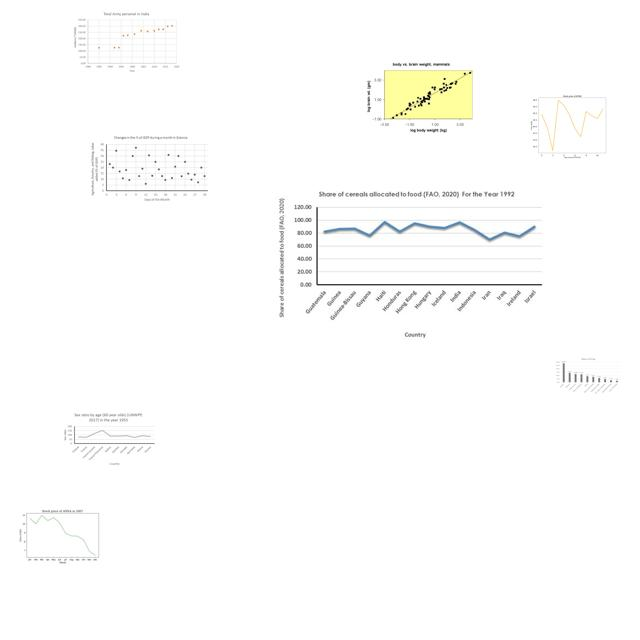Graph: (275, 187, 546, 342), (88, 134, 212, 204), (365, 60, 474, 134), (519, 89, 623, 161), (73, 10, 181, 75), (15, 500, 108, 570), (61, 411, 157, 467), (555, 357, 621, 395)
